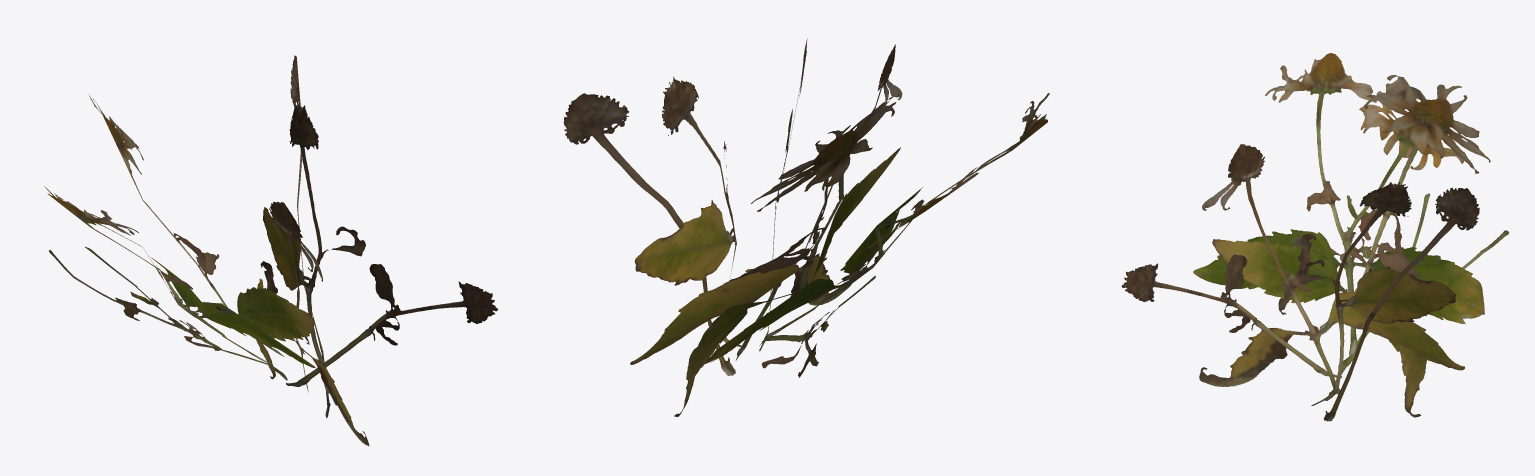
The model's file is pm_pyre.fbx.
3 views of the same model, side by side, from view 1: azimuth 30°, elevation 25°; view 2: azimuth 150°, elevation 25°; view 3: azimuth 270°, elevation 25° (orthographic). The views are drawn at different scales.
Visible parts, largest first — view 1: Pyre; view 2: Pyre; view 3: Pyre.
Boxes of the visible parts, x1,y1,x2,y2 form: Pyre: (44, 55, 497, 445); Pyre: (563, 39, 1049, 416); Pyre: (1121, 53, 1509, 421).
Size of the model in its own units: 88.88 by 87.89 by 98.29.
Materials: 1 (1 with a texture image).
